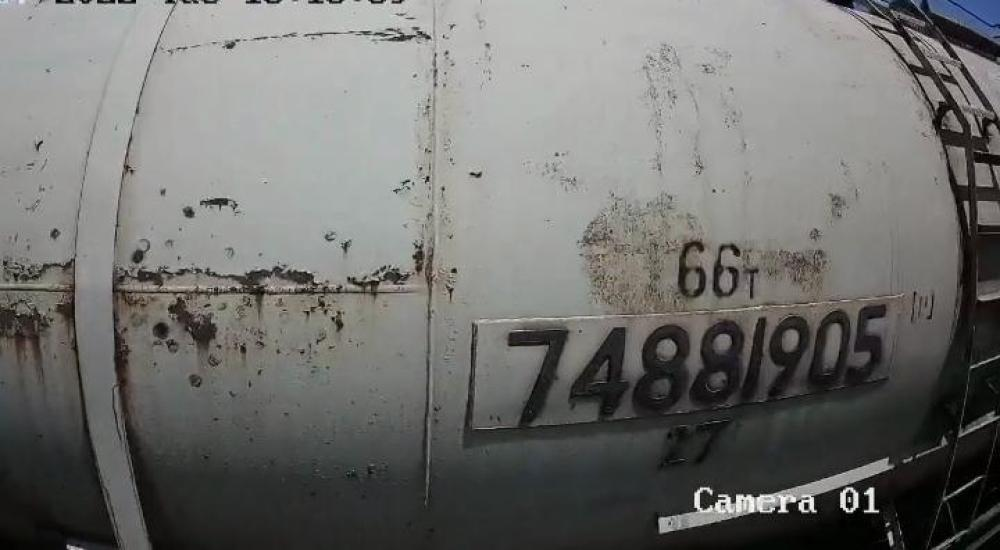Wagon-number: (504, 301, 892, 426)
